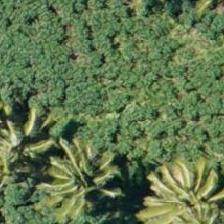coconut_tree: (31, 129, 121, 219), (0, 107, 57, 197), (147, 158, 223, 223)
